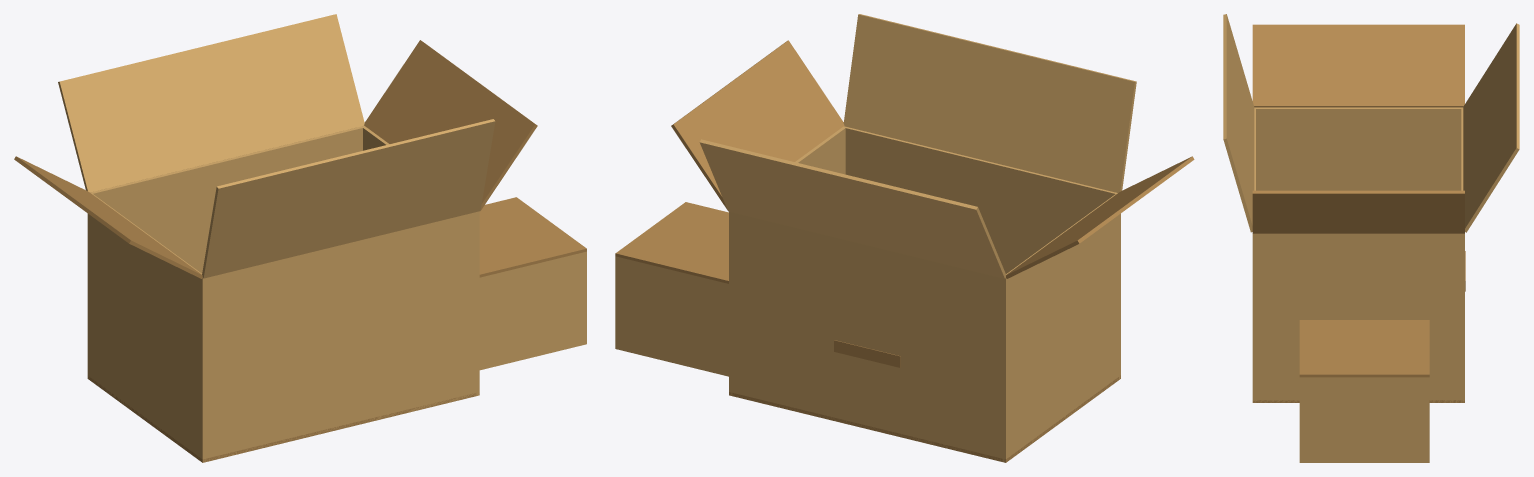
File: Prize_Box.obj
The picture shows the model from 3 angles, left to right: view 1: azimuth 30°, elevation 25°; view 2: azimuth 150°, elevation 25°; view 3: azimuth 270°, elevation 25°; orthographic projection. The views are drawn at different scales.
Visible parts, largest first — view 1: Prize_Box; view 2: Prize_Box; view 3: Prize_Box.
Boxes of the visible parts, <box> form: Prize_Box: <box>14,14,586,462</box>; Prize_Box: <box>615,14,1194,462</box>; Prize_Box: <box>1223,14,1519,462</box>.
Size of the model in its own units: 0.8728 by 0.4946 by 0.5021.
